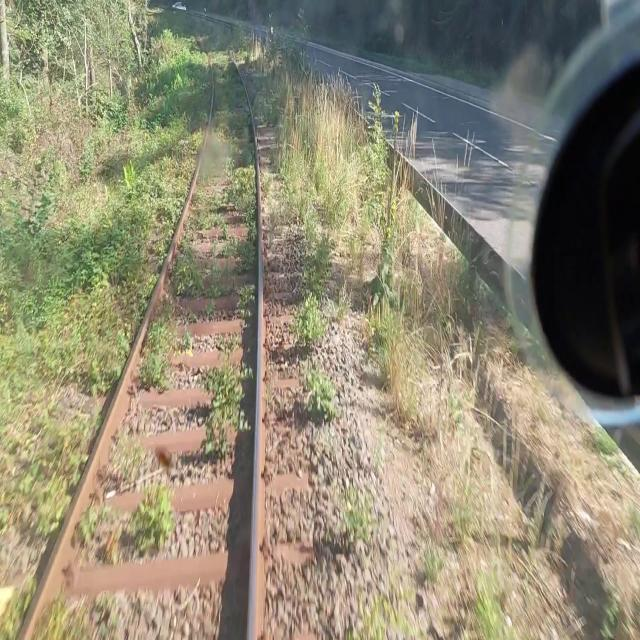Plant: (71, 31, 278, 396), (273, 112, 335, 292), (78, 434, 151, 545), (18, 416, 90, 498), (139, 292, 194, 391), (201, 355, 249, 456), (221, 149, 257, 272), (354, 569, 413, 639), (321, 481, 368, 548), (132, 482, 175, 552), (185, 171, 223, 238), (37, 592, 89, 639), (170, 235, 206, 297), (0, 578, 35, 639), (34, 472, 68, 534), (301, 363, 335, 424), (293, 292, 327, 345), (91, 587, 123, 639), (208, 257, 232, 298), (236, 277, 255, 325)
